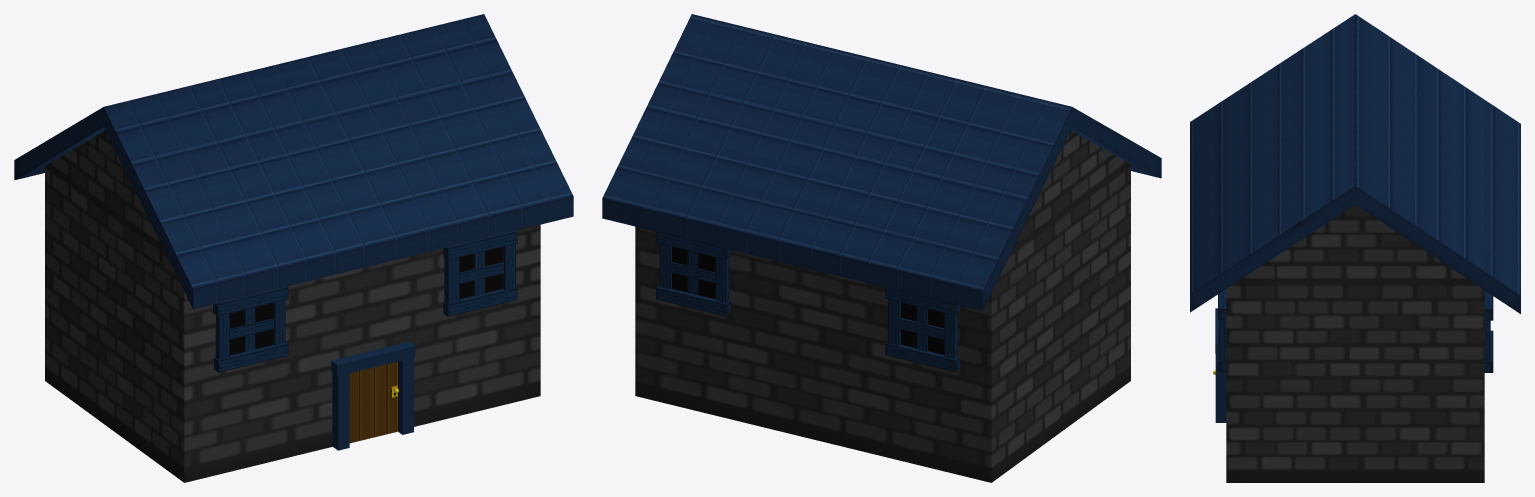
The model's file is house.FBX.
The picture shows the model from 3 angles, left to right: view 1: azimuth 30°, elevation 25°; view 2: azimuth 150°, elevation 25°; view 3: azimuth 270°, elevation 25°; orthographic projection. The views are drawn at different scales.
Visible parts, largest first — view 1: polySurface66; view 2: polySurface66; view 3: polySurface66.
Part boxes in pixels (x1,y1,x2,y2): polySurface66: (14, 14, 573, 482); polySurface66: (602, 14, 1161, 482); polySurface66: (1190, 14, 1520, 482).
Bounding box in the file's own units: 420 × 342 × 346.
1 material, 1 textured.
